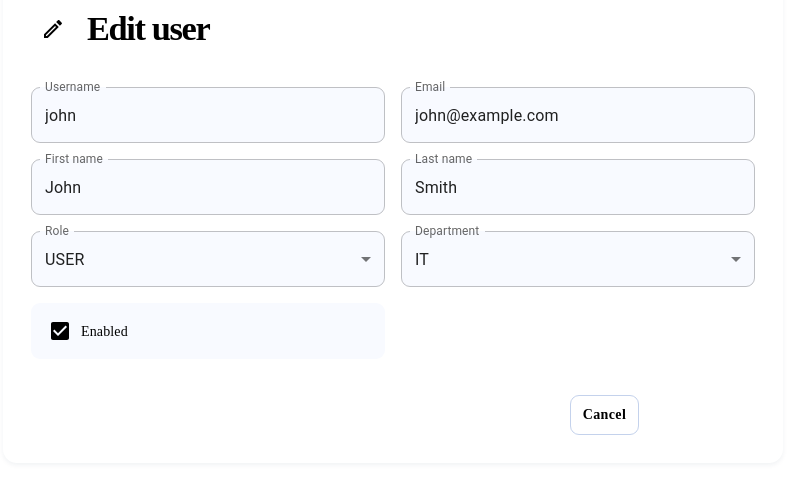
Test: UserForm › omits the ADMIN option when granting roles is restricted in edit mode
Click the dropdown named "Role": (65, 259) left=45, top=250, right=84, bottom=268
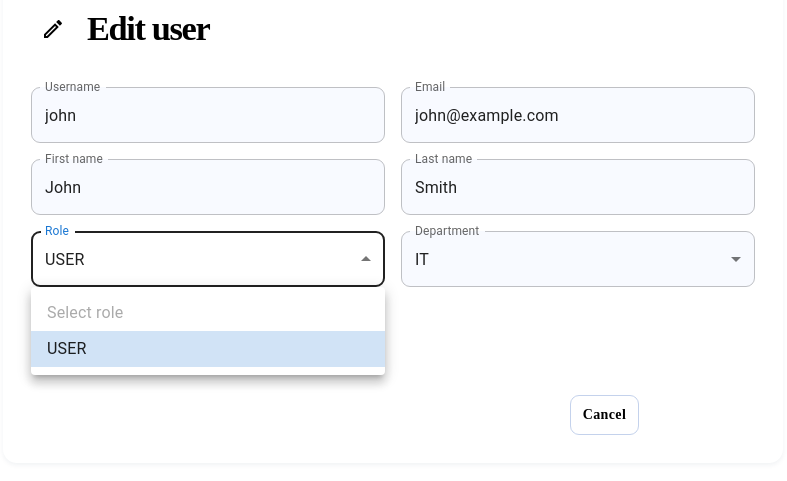
expect the option "USER" is shown: met, box left=31, top=331, right=385, bottom=367
